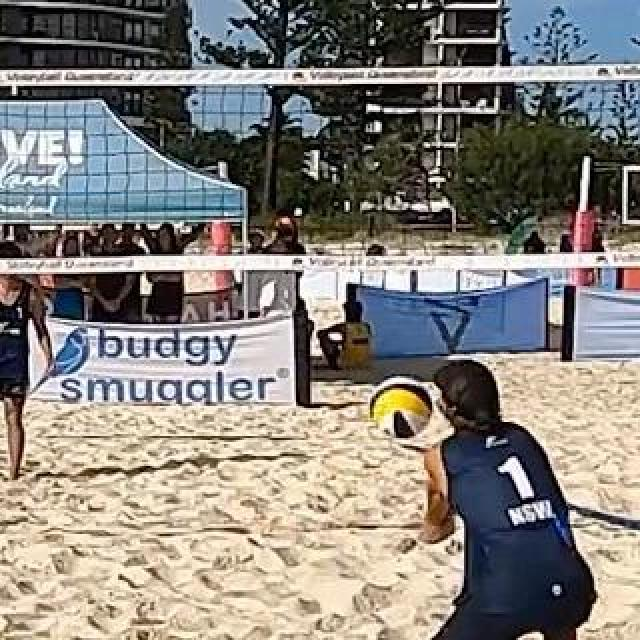volleyball: (372, 380, 432, 442)
